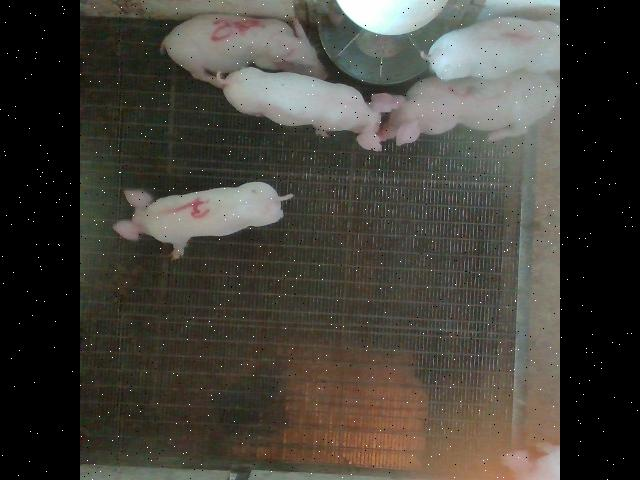pig-1: (421, 16, 559, 79)
pig-3: (379, 70, 558, 144)
pig-4: (114, 181, 292, 259)
pig-5: (161, 14, 326, 84)
